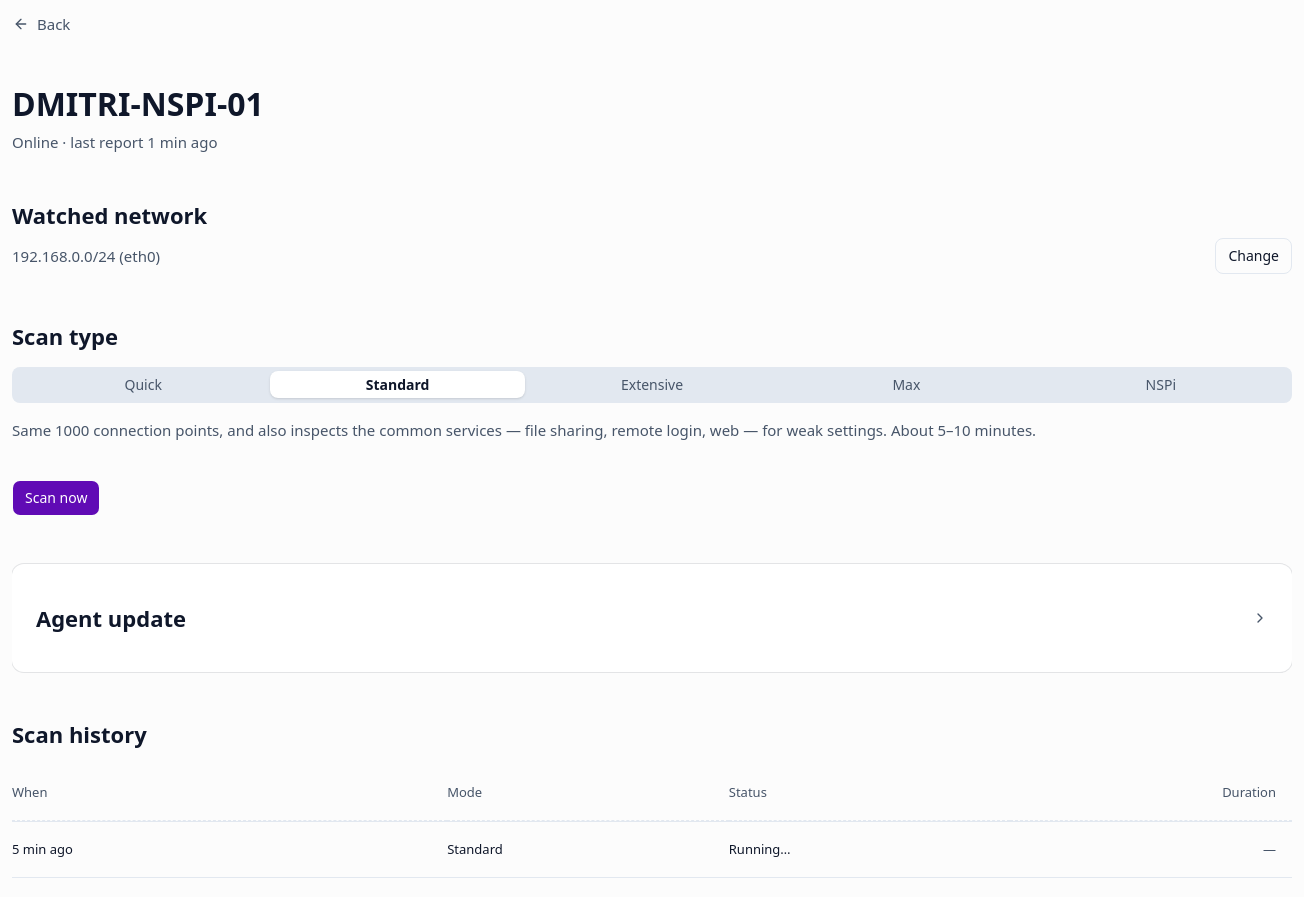
Test case: DeviceDetail command lifecycle › refusals › reports a plain start failure when a busy Pi exposes no command to adopt
Click the button with test id "agents-scan-now": (56, 498) 12,480 -> 100,516
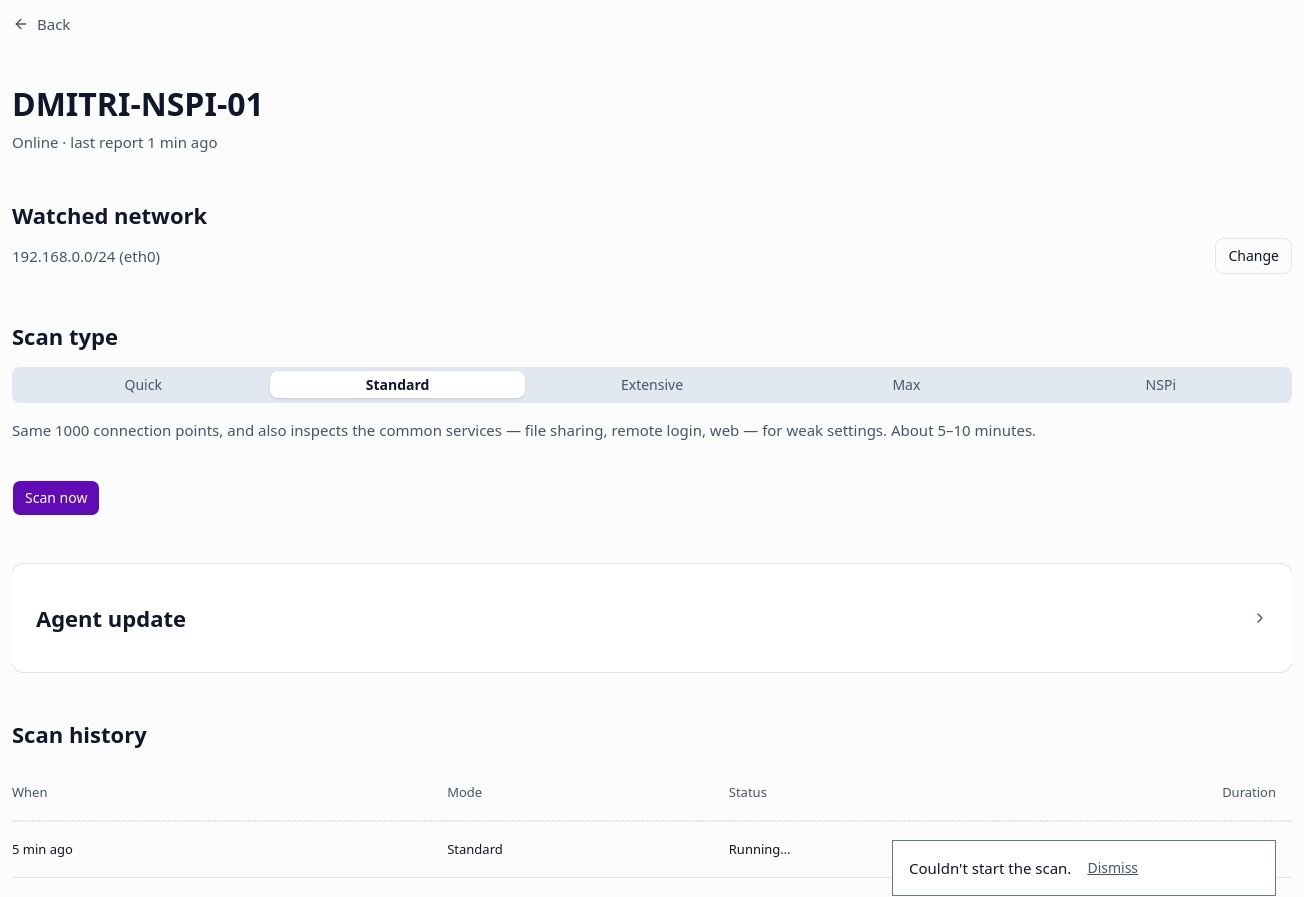
Check: the list item with test id "toast" shows "Couldn't start the scan.", box 909,858 -> 1071,878
